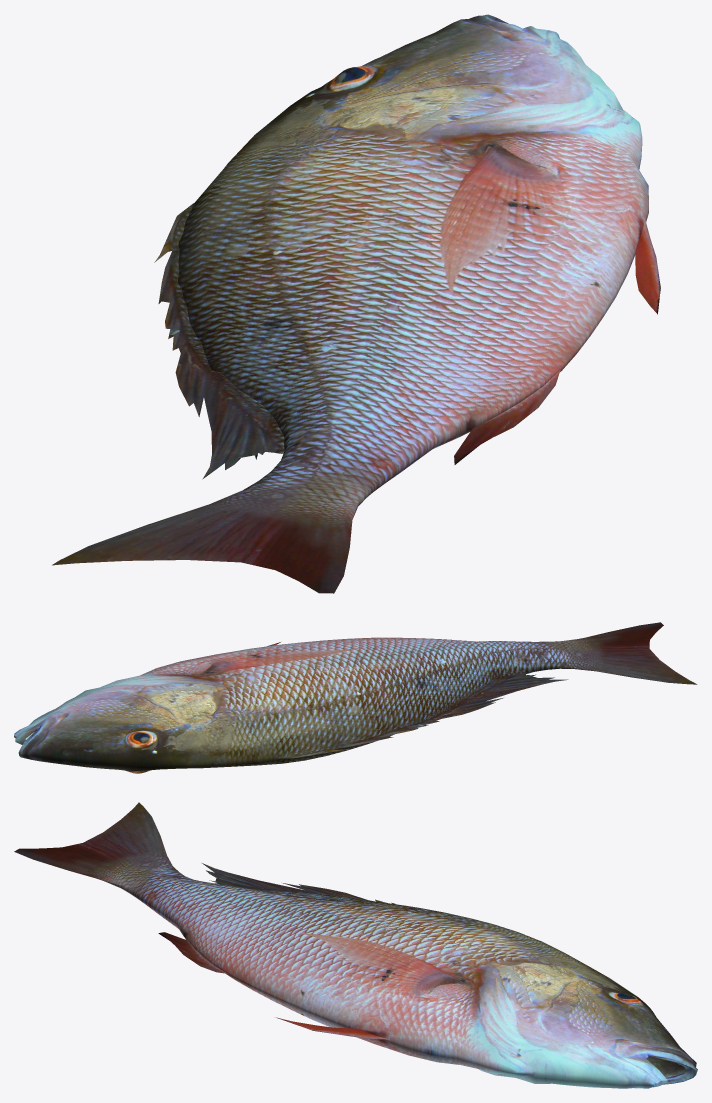
The model's file is fishFBX.FBX.
3 views of the same model, one above another, from view 1: azimuth 30°, elevation 25°; view 2: azimuth 150°, elevation 25°; view 3: azimuth 270°, elevation 25° (orthographic). The views are drawn at different scales.
Parts seen in each view (by area): view 1: Line01; view 2: Line01; view 3: Line01.
Boxes of the visible parts, left/top/right/bottom form: Line01: left=52, top=14, right=660, bottom=593; Line01: left=14, top=622, right=697, bottom=773; Line01: left=14, top=802, right=697, bottom=1088.
Size of the model in its own units: 9.26 by 1.24 by 9.76.
1 material, 1 textured.
